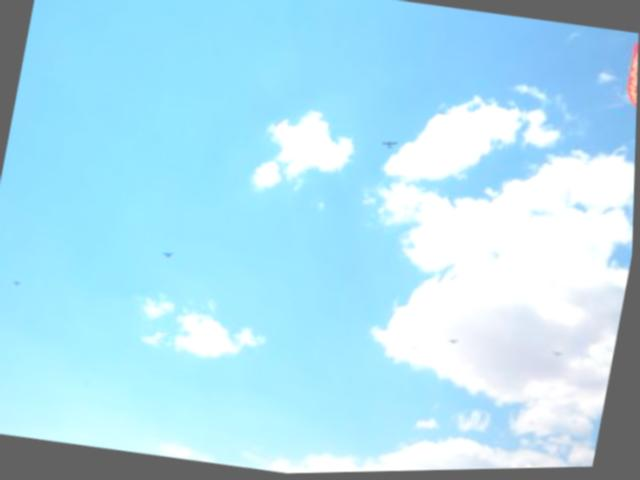uav: (379, 138, 400, 153), (161, 248, 179, 263), (550, 350, 570, 363), (447, 336, 462, 350)
